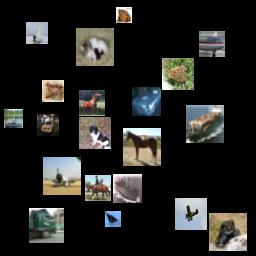airplane: (43, 157, 81, 195), (175, 198, 207, 230), (199, 31, 225, 57)
automobile: (132, 87, 161, 116), (37, 114, 59, 136)
bird: (42, 80, 64, 102)
cat: (76, 28, 114, 66), (105, 211, 121, 227)
dog: (79, 117, 111, 149)
frog: (209, 213, 247, 251), (162, 58, 194, 90), (116, 7, 132, 23)
ship: (186, 105, 224, 143), (113, 174, 142, 203), (26, 22, 48, 44), (4, 109, 23, 128)
truck: (29, 208, 64, 243)
